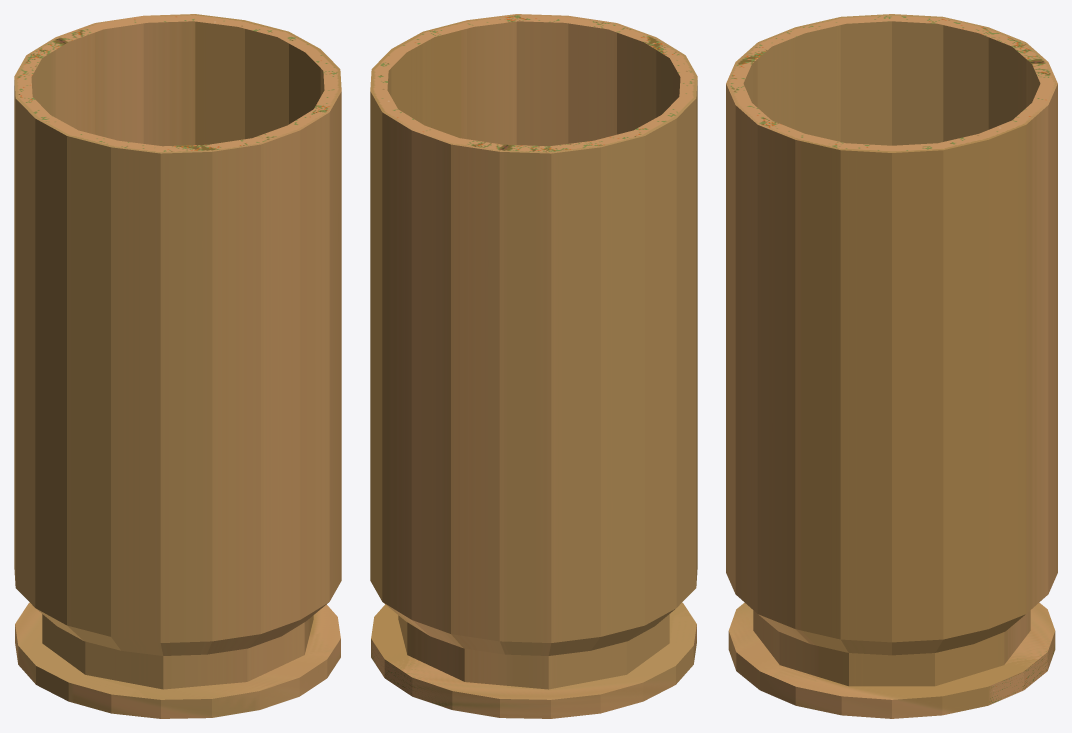
Rendered from 9.19 Parabellum casing.glb.
3 renders of one model, left to right at view 1: azimuth 30°, elevation 25°; view 2: azimuth 150°, elevation 25°; view 3: azimuth 270°, elevation 25°, orthographic.
Parts seen in each view (by area): view 1: Cylinder; view 2: Cylinder; view 3: Cylinder.
Part boxes in pixels (box(x1,y1,x2,y2)): Cylinder: box(14, 14, 341, 718); Cylinder: box(370, 14, 697, 718); Cylinder: box(726, 14, 1057, 718).
Bounding box in the file's own units: 0.0302 × 0.0574 × 0.0305.
3 materials, 3 textured.
